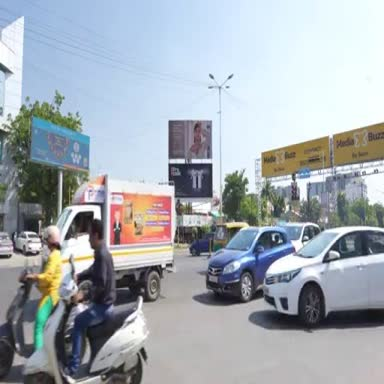Car: (263, 226, 383, 327), (206, 227, 293, 302), (280, 222, 320, 250), (15, 232, 41, 254), (190, 233, 214, 256), (0, 232, 13, 258)
